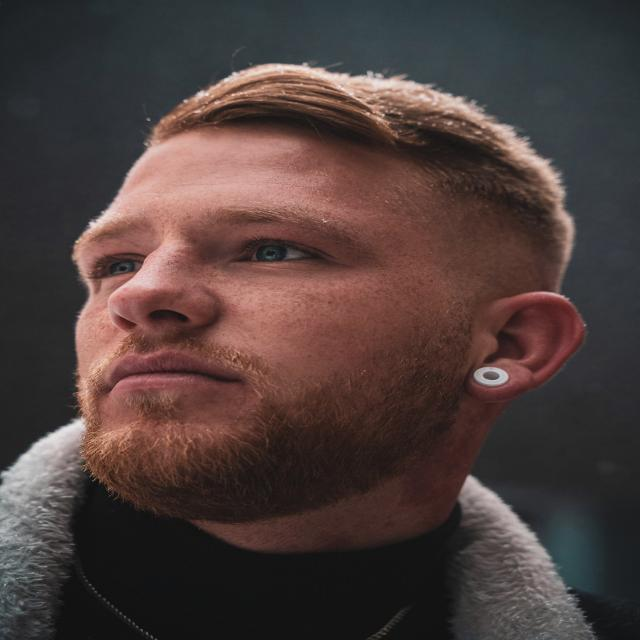adult: (0, 64, 593, 640)
